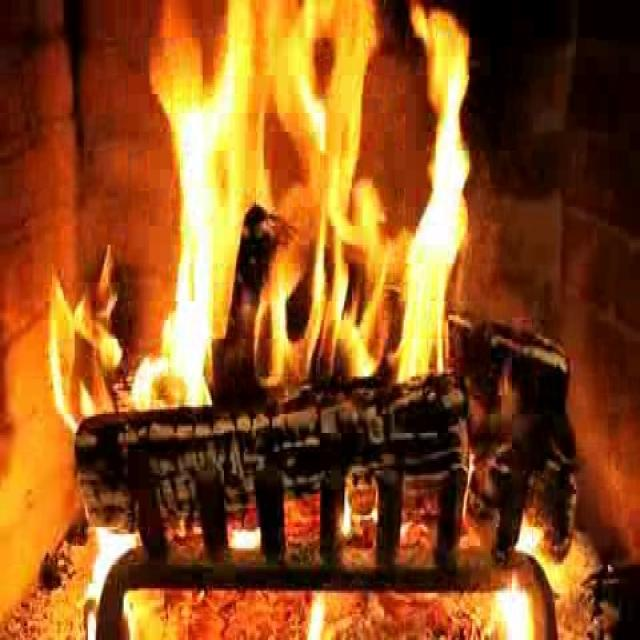smoke: (123, 0, 489, 417)
